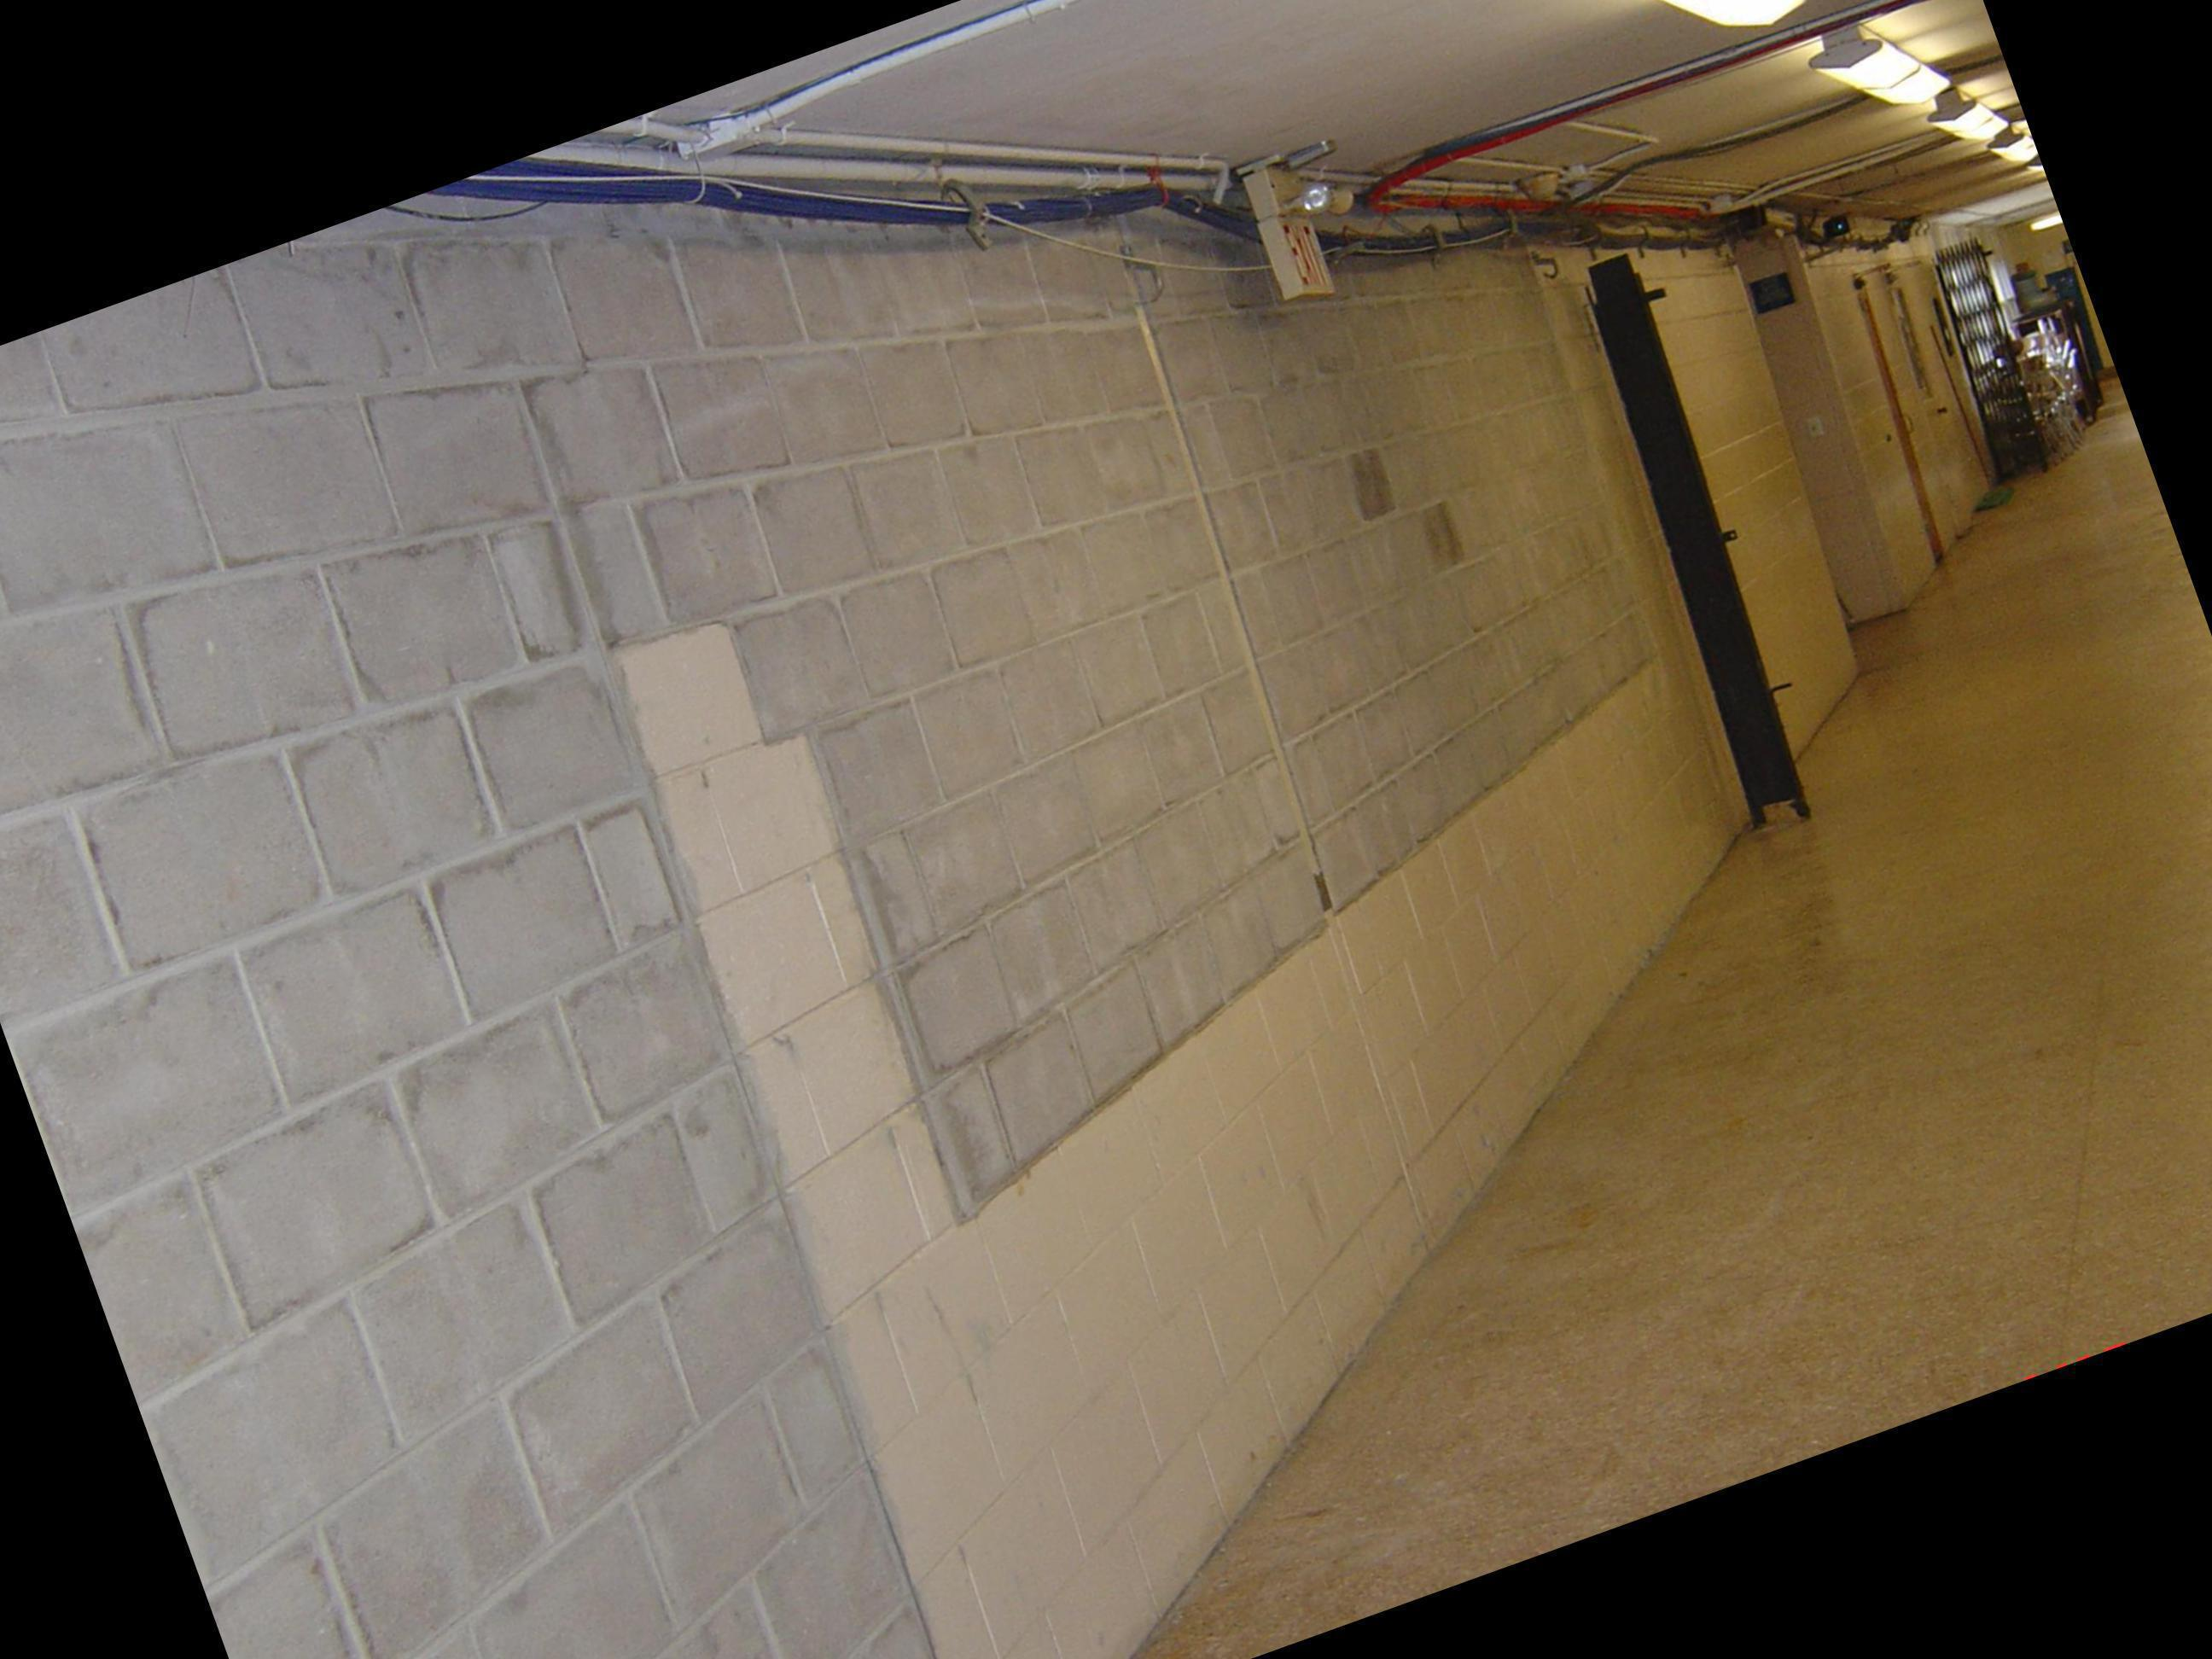Bote de Basura: (1568, 240, 1865, 864), (2134, 249, 2212, 570)
